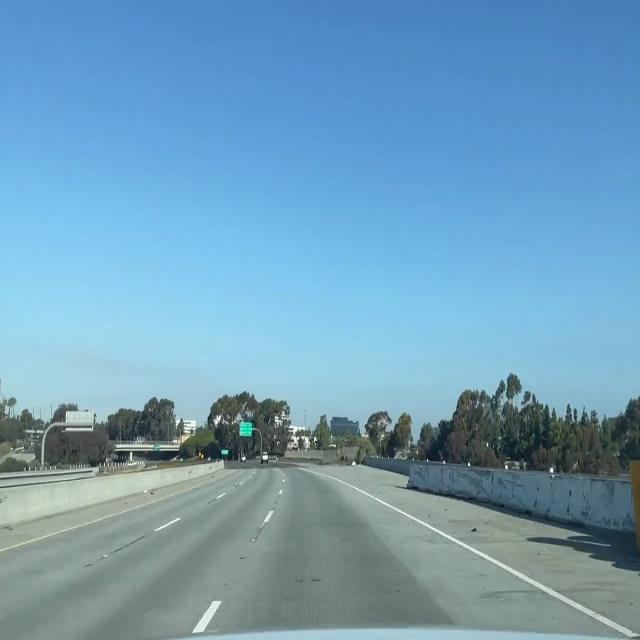street-signs: (239, 422, 252, 437), (155, 442, 160, 451), (222, 448, 228, 454)
